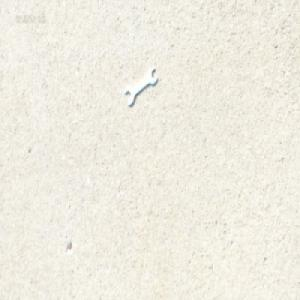Wrench: (125, 67, 157, 106)
